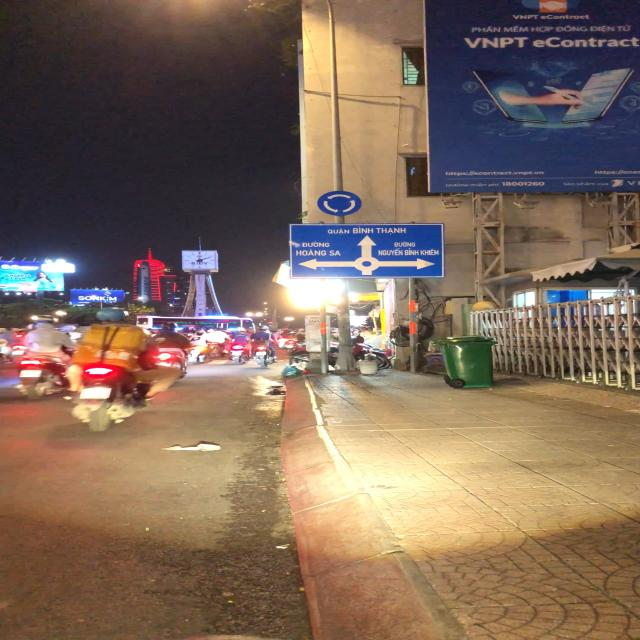Bien bao noi giao nhau chay theo vong xuyen: (316, 189, 364, 216)
